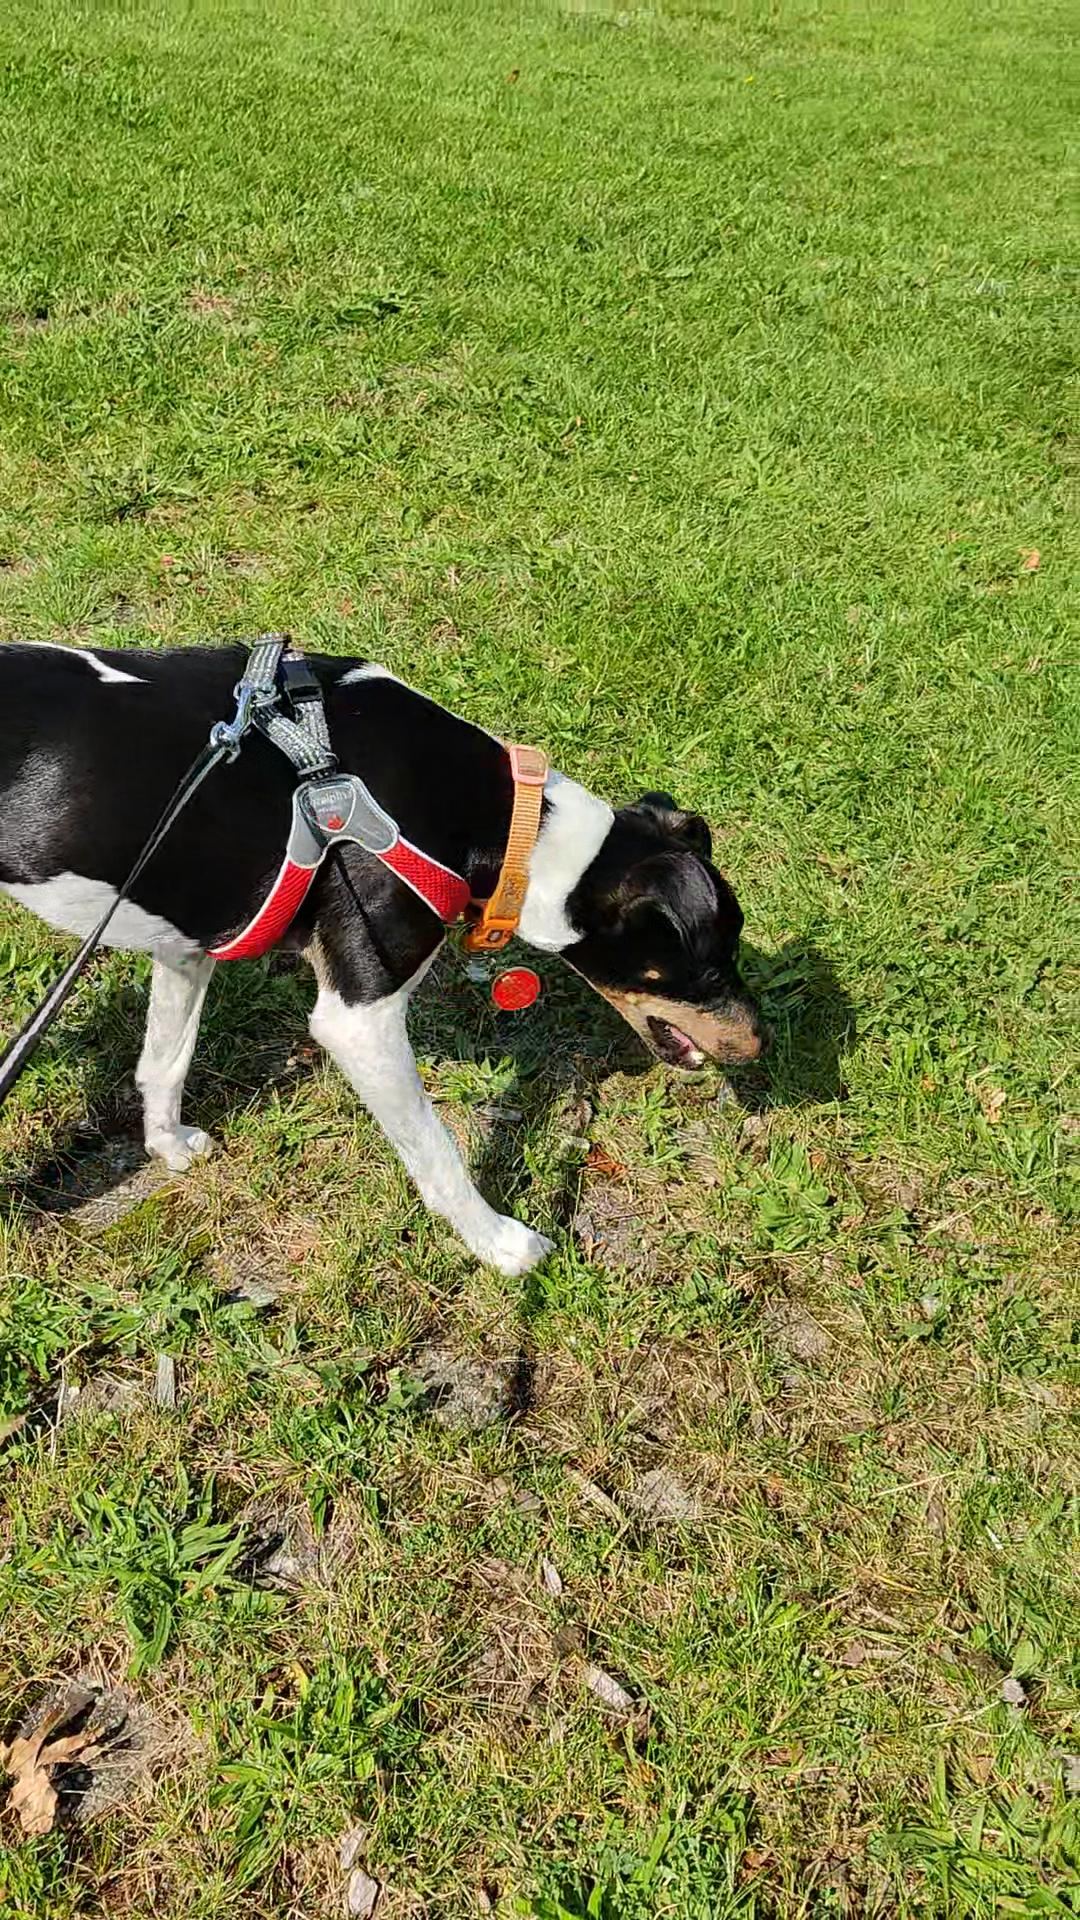Dog: (0, 611, 779, 1287)
